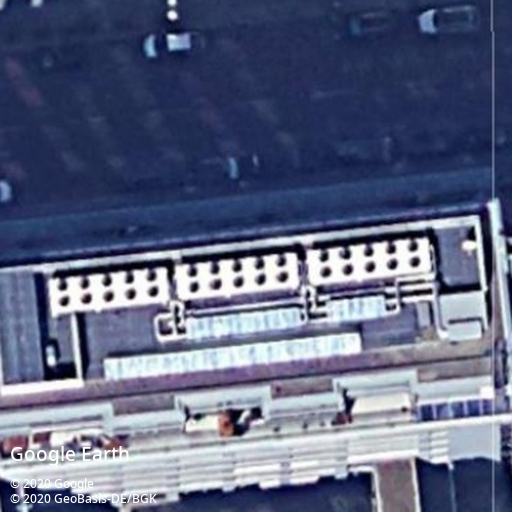Chiller: (305, 234, 433, 287), (173, 248, 301, 301), (45, 265, 173, 318)
